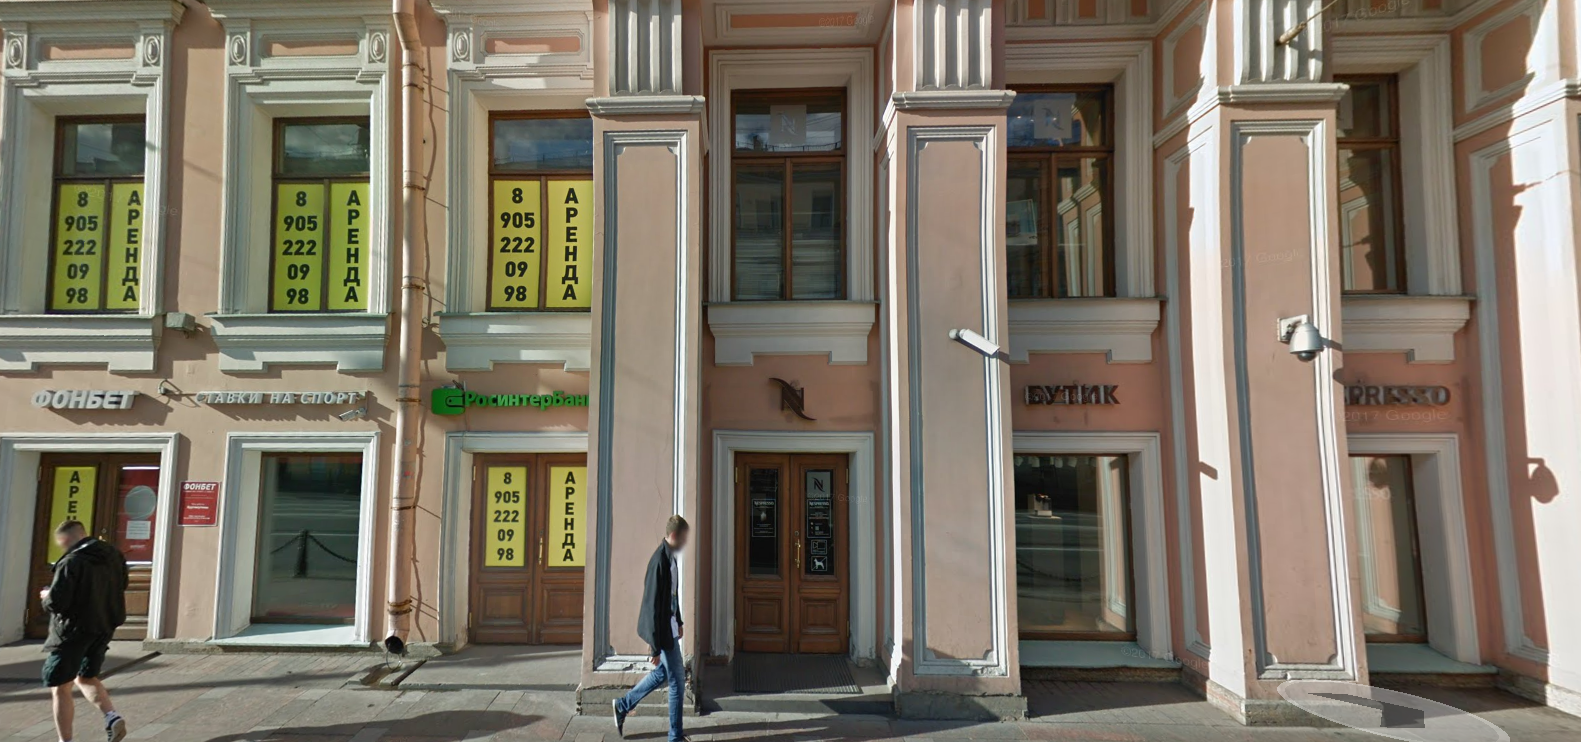door: (469, 452, 594, 647), (733, 450, 844, 656)
signboard: (187, 378, 370, 409), (433, 387, 592, 412), (1345, 380, 1454, 411), (30, 384, 131, 414), (1019, 380, 1123, 406), (771, 371, 817, 421)
win_ad: (487, 174, 592, 305), (55, 178, 147, 314), (271, 181, 362, 310), (489, 463, 582, 568)
window: (731, 89, 850, 299), (1004, 83, 1116, 296), (484, 109, 597, 307), (247, 445, 369, 628), (1011, 453, 1129, 640), (47, 112, 146, 315), (267, 116, 365, 312), (1335, 73, 1413, 293), (1351, 446, 1434, 643)
